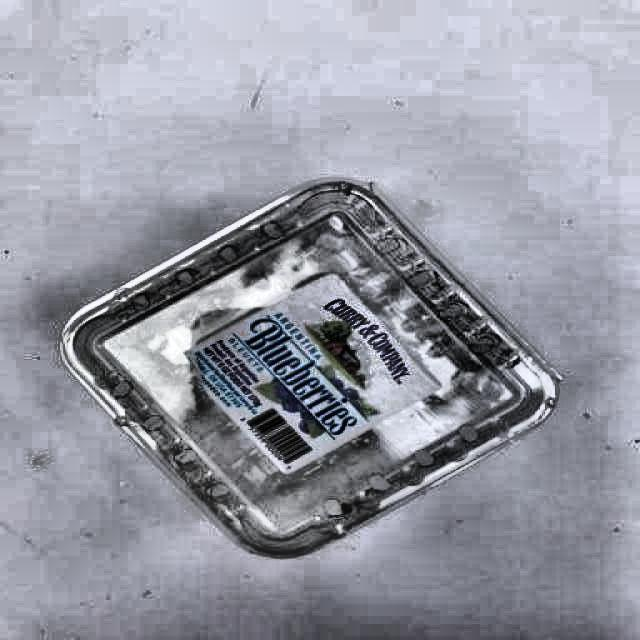plastic: (62, 181, 556, 554)
